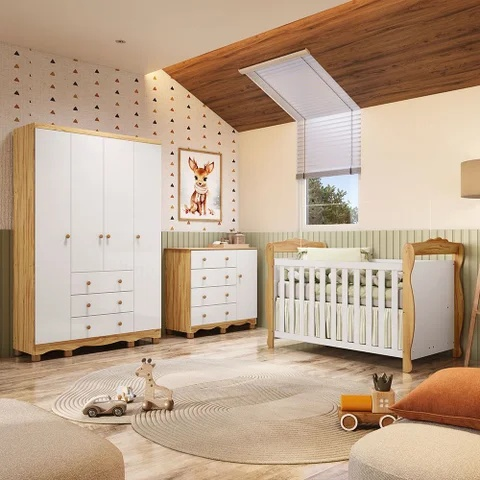crib: (266, 238, 463, 371)
